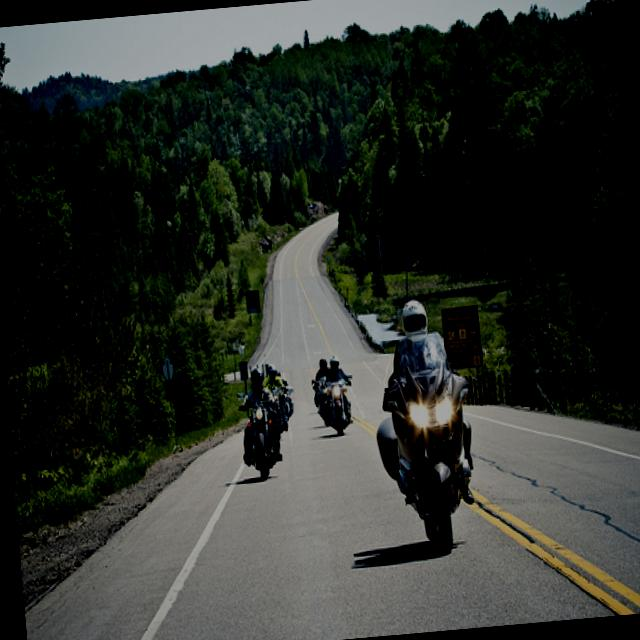Vehicle: (378, 326, 476, 557), (245, 400, 278, 480), (323, 380, 355, 436), (314, 374, 332, 428), (271, 386, 285, 432), (281, 386, 295, 416), (277, 387, 283, 396)
